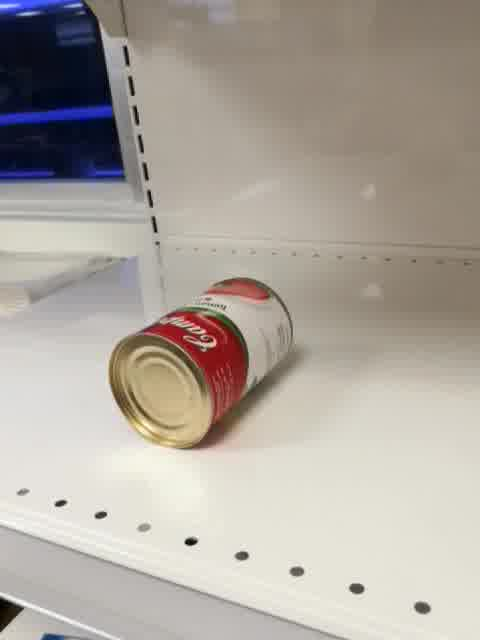tomatosoup: (106, 277, 296, 452)
